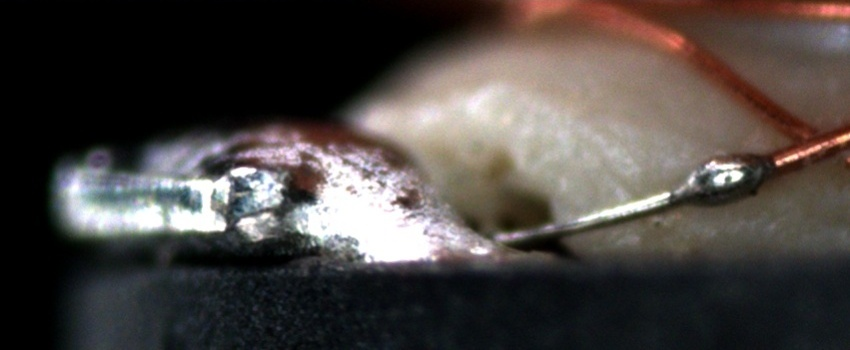TB: (669, 144, 783, 207)
TS: (492, 156, 777, 244)
TTCW: (495, 138, 826, 247)
